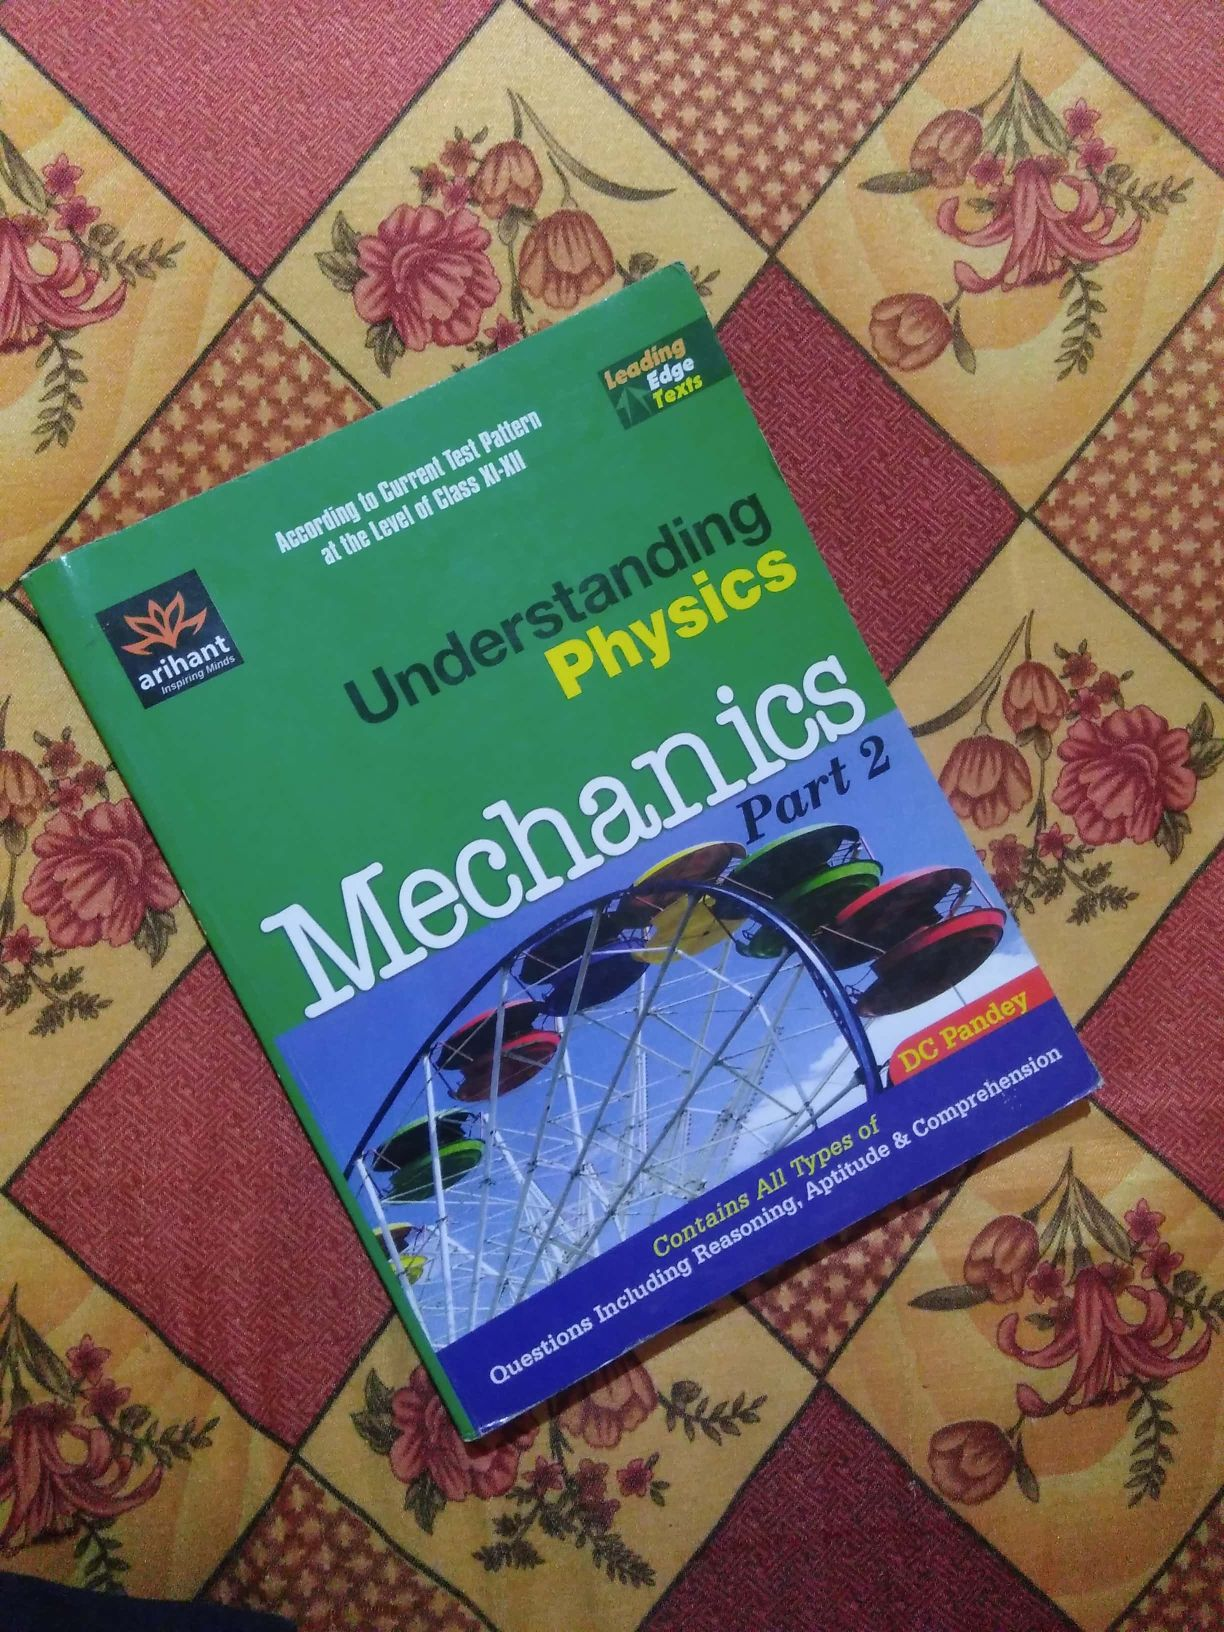mechanics: (30, 351, 1142, 1358)
